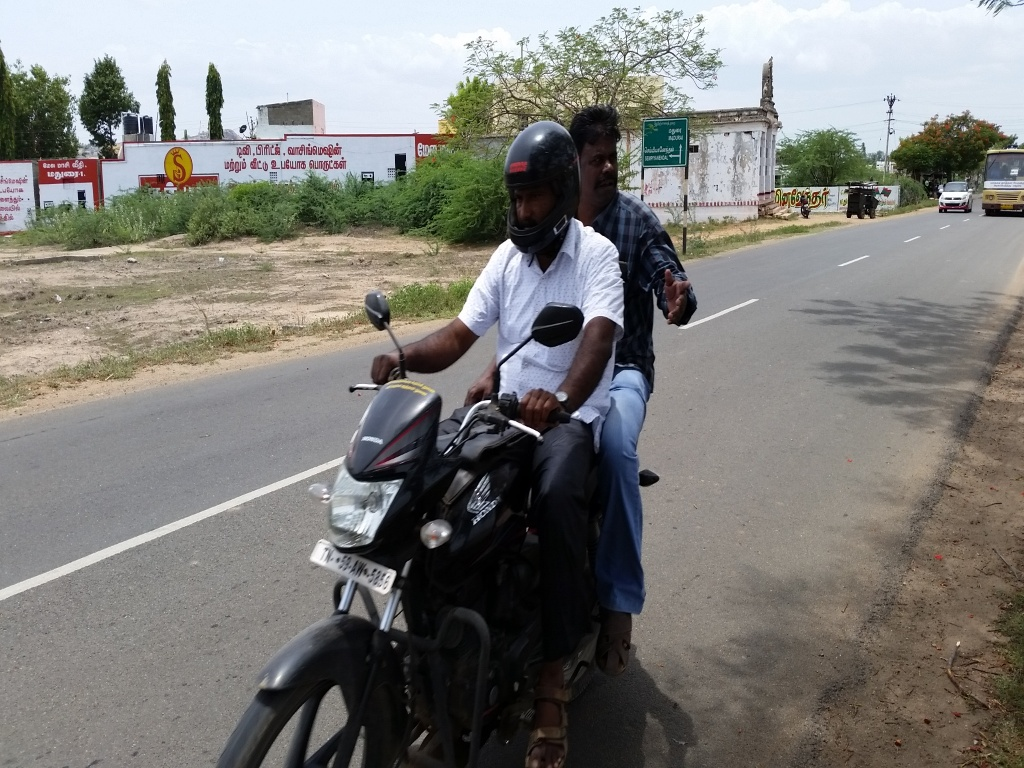biker: (205, 11, 706, 768)
helmet: (490, 112, 575, 266)
nohelmet: (575, 90, 635, 220)
